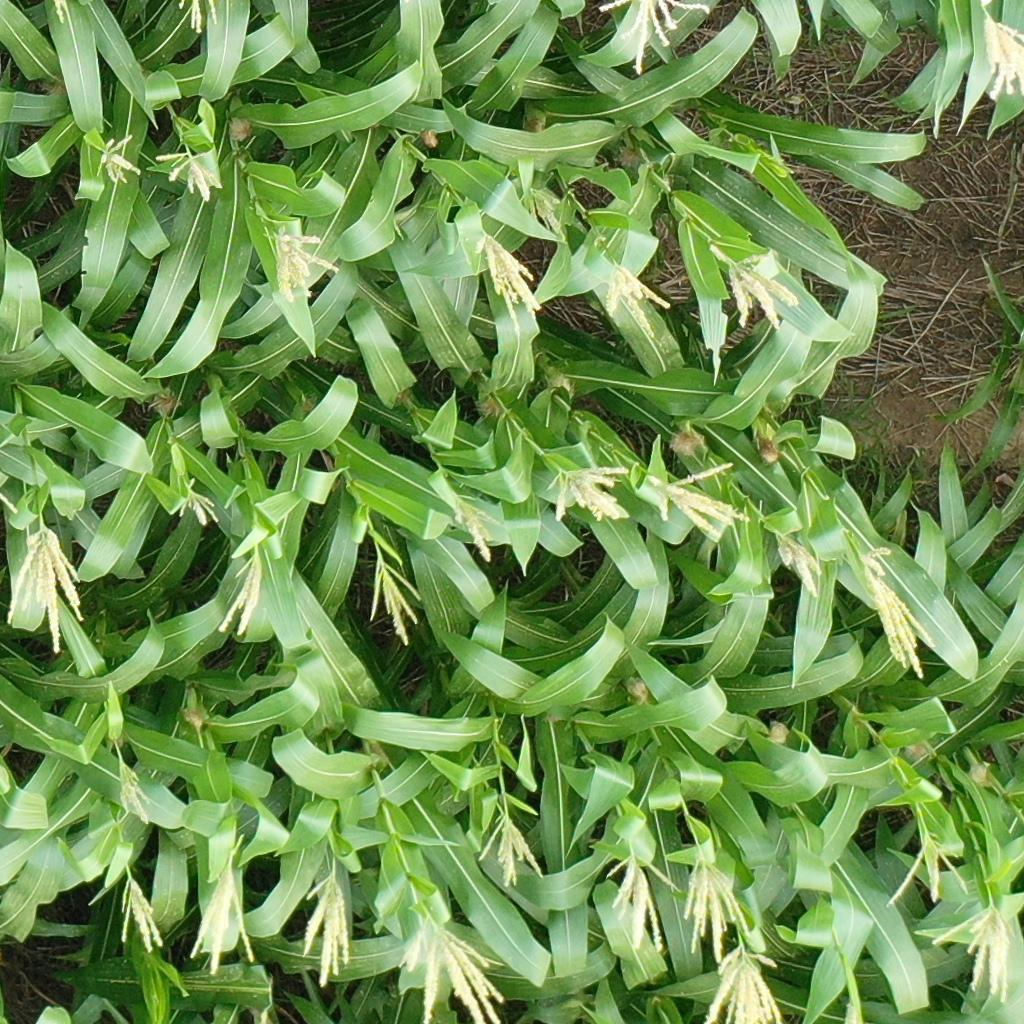Tassel: (396, 908, 507, 1024), (2, 523, 91, 658), (855, 546, 931, 680), (645, 459, 754, 545), (182, 853, 257, 977), (594, 1, 711, 79), (932, 901, 1017, 1004), (874, 822, 970, 912), (710, 241, 804, 332), (468, 231, 545, 340), (601, 853, 683, 953), (680, 849, 740, 968), (704, 942, 787, 1024), (302, 866, 357, 988), (363, 554, 426, 651), (471, 812, 546, 887), (270, 225, 340, 304), (544, 462, 631, 523), (606, 260, 673, 337), (974, 1, 1024, 102), (218, 551, 267, 641), (152, 142, 228, 199), (449, 492, 501, 562), (117, 876, 163, 954), (773, 528, 825, 594), (89, 135, 146, 188), (174, 472, 224, 528), (525, 182, 566, 240), (114, 758, 150, 823), (175, 1, 221, 34)
